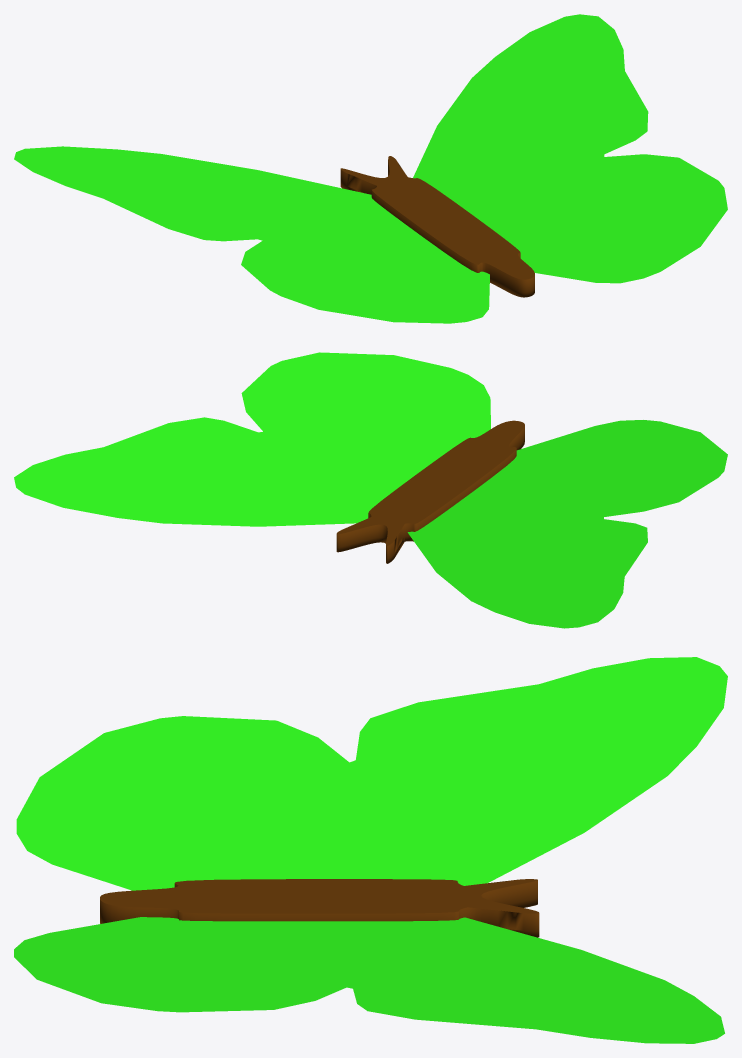
The model's file is bf_green.glb.
The picture shows the model from 3 angles, top to bottom: view 1: azimuth 30°, elevation 25°; view 2: azimuth 150°, elevation 25°; view 3: azimuth 270°, elevation 25°; orthographic projection. The views are drawn at different scales.
Parts seen in each view (by area): view 1: RWing.002, LWing.002, bfbody.002; view 2: RWing.002, LWing.002, bfbody.002; view 3: LWing.002, RWing.002, bfbody.002.
Part boxes in pixels (x1,y1,x2,y2): RWing.002: (413, 14, 727, 283); LWing.002: (14, 146, 489, 323); bfbody.002: (340, 156, 534, 297); RWing.002: (14, 352, 490, 526); LWing.002: (407, 420, 727, 628); bfbody.002: (336, 420, 524, 563); LWing.002: (16, 657, 727, 890); RWing.002: (14, 917, 724, 1043); bfbody.002: (100, 879, 539, 937).
Size of the model in its own units: 2.13 by 0.1791 by 1.66.
